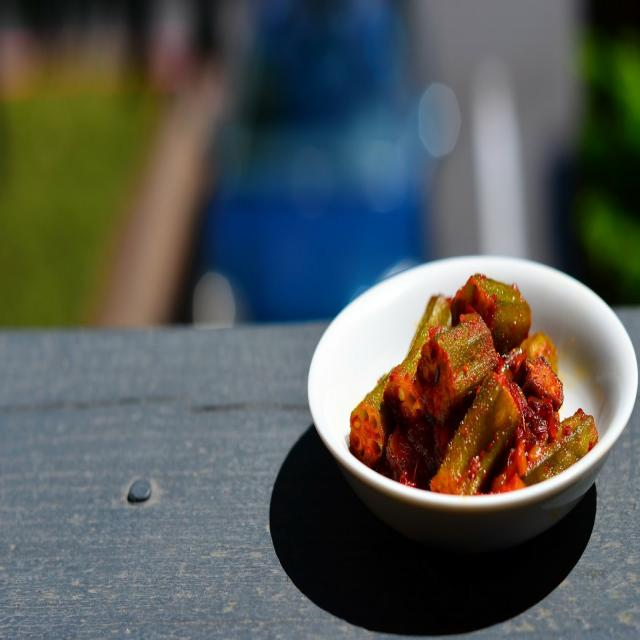BhindiMasala: (348, 272, 597, 497)
